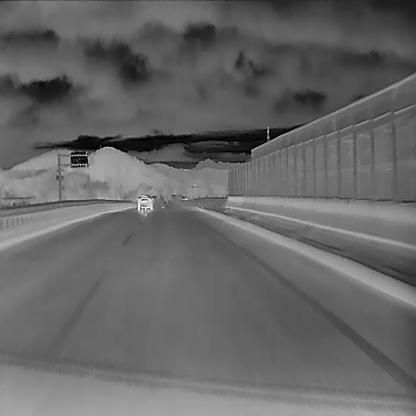car: (136, 194, 154, 210)
